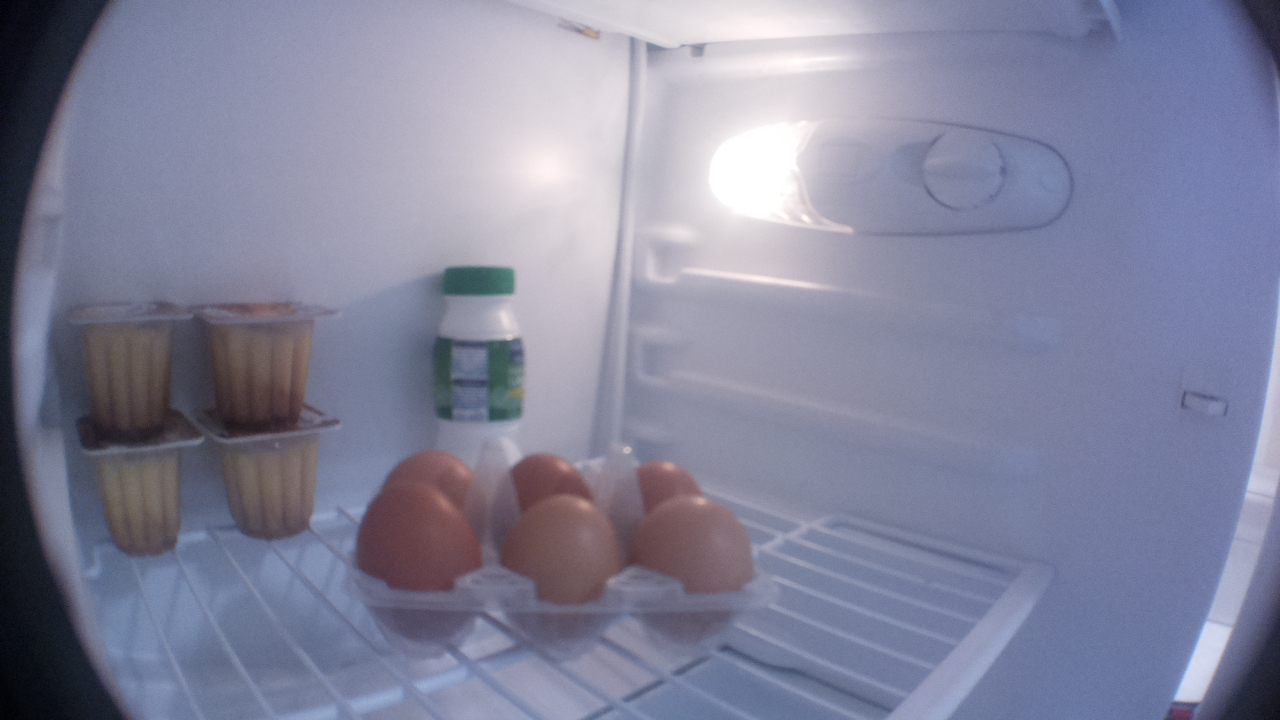caramel: (193, 302, 345, 429), (62, 295, 190, 434), (67, 433, 209, 557), (208, 421, 348, 544)
egg: (351, 477, 486, 657), (504, 496, 626, 656), (633, 497, 755, 640), (507, 448, 603, 501), (624, 456, 714, 503), (396, 447, 474, 491)
laban: (430, 256, 527, 508)
